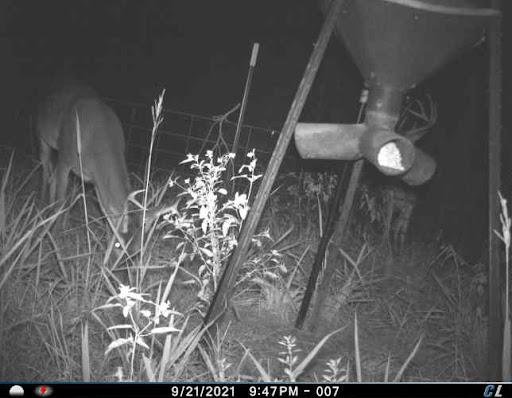Deer: (29, 64, 175, 275), (366, 82, 443, 252)
